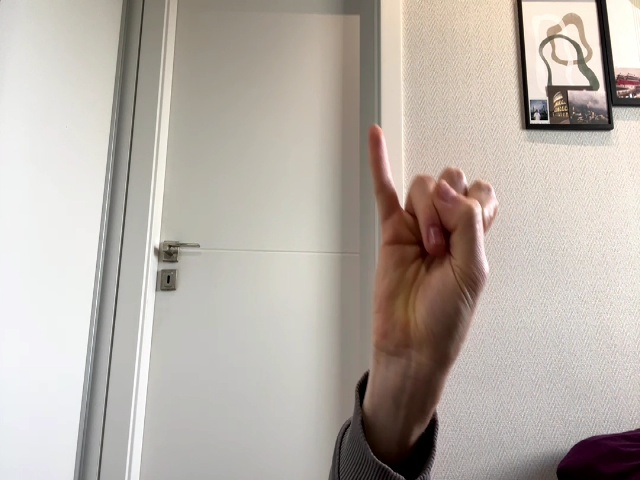I: (368, 125, 499, 352)
